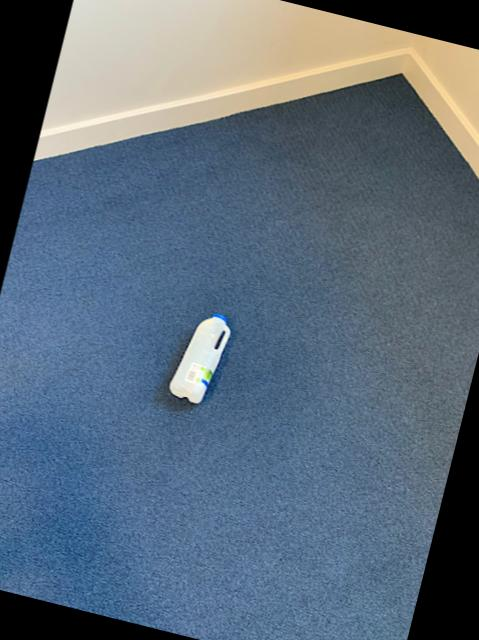plastic: (170, 313, 231, 402)
